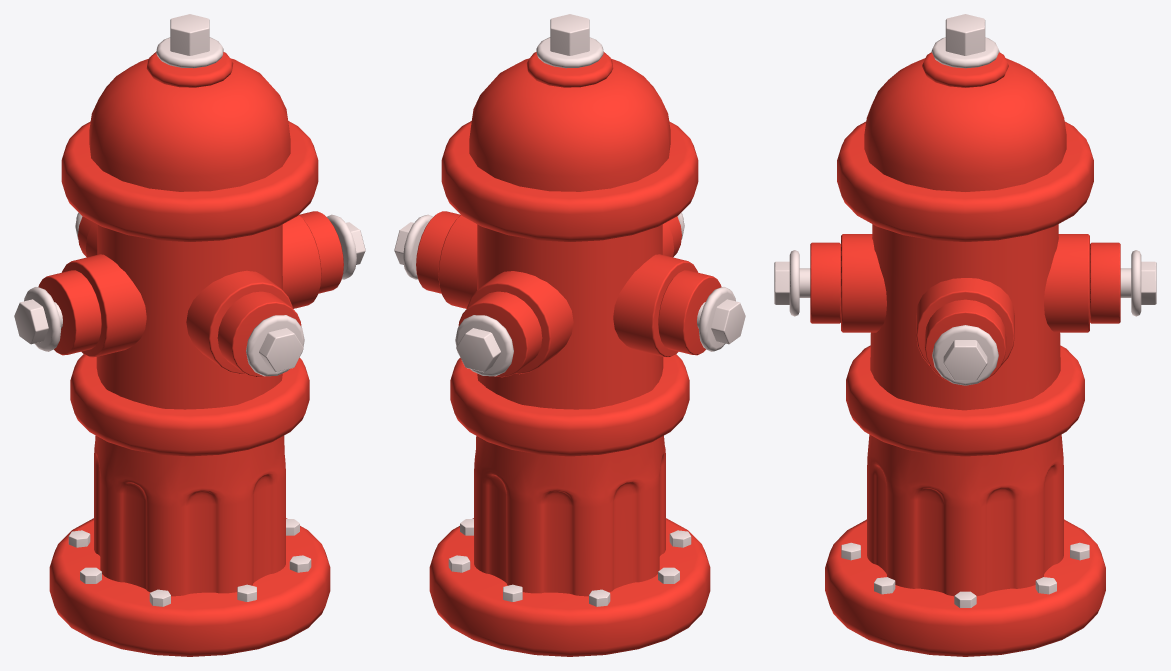
The model's file is Public_11_Fire_Hydrant_2.glb.
3 renders of one model, left to right at view 1: azimuth 30°, elevation 25°; view 2: azimuth 150°, elevation 25°; view 3: azimuth 270°, elevation 25°, orthographic.
Parts seen in each view (by area): view 1: Public_11_Fire_Hydrant_2; view 2: Public_11_Fire_Hydrant_2; view 3: Public_11_Fire_Hydrant_2.
Boxes of the visible parts, box(x1,y1,x2,y2) form: Public_11_Fire_Hydrant_2: box(14, 14, 365, 656); Public_11_Fire_Hydrant_2: box(394, 14, 745, 656); Public_11_Fire_Hydrant_2: box(774, 14, 1156, 656).
Size of the model in its own units: 1.13 by 1.89 by 1.13.
1 material, 1 textured.
